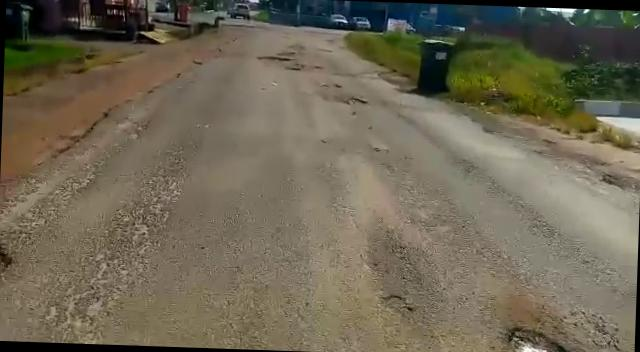pothole: (506, 326, 585, 352), (334, 96, 374, 107), (254, 55, 295, 64)
